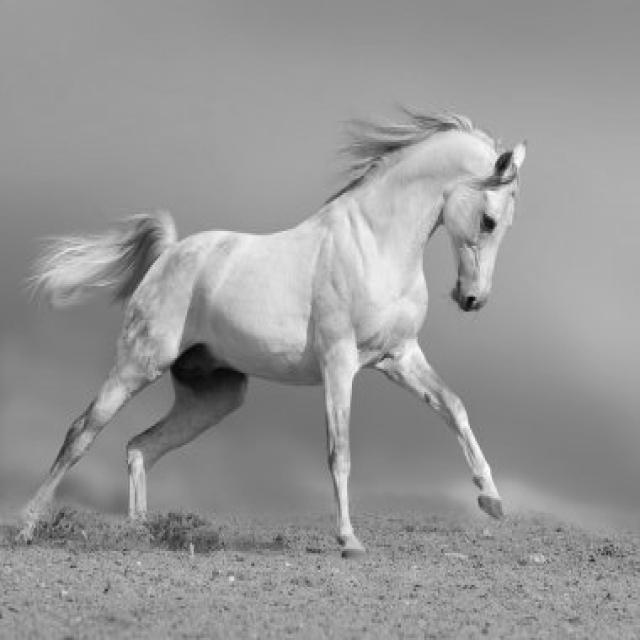Animal: (25, 115, 523, 555)
